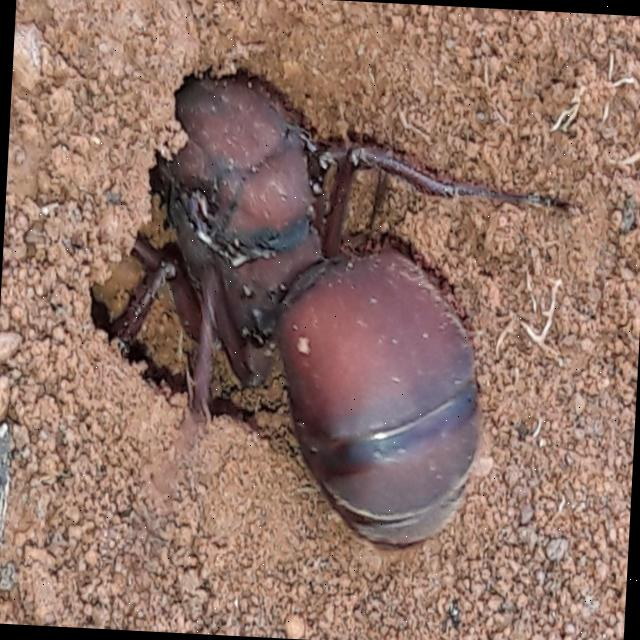Alive-Female-Dealate: (32, 0, 583, 561)
